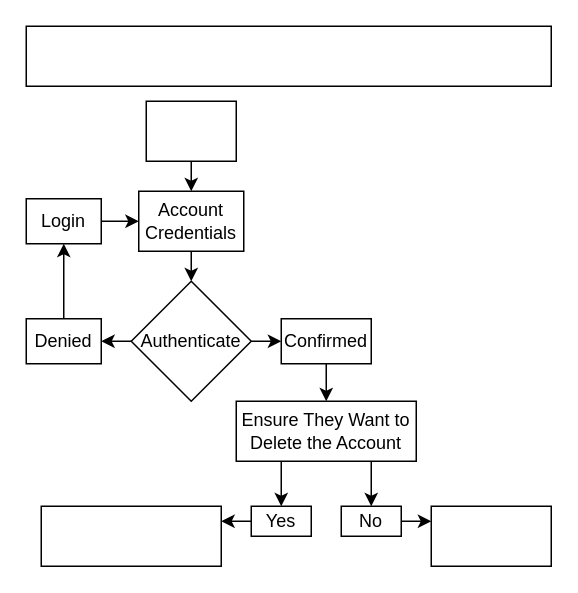
Some shapes in this 578 by 593 pixel diagram are drawn without their labels. The centre of each missing label's shape, as x and y in pixels:
"Account Deletion" belongs at point (288, 55).
"Delete Request" belongs at point (190, 130).
"Dig into user account and delete all info" belongs at point (130, 535).
"Return to User Home" belongs at point (490, 535).
